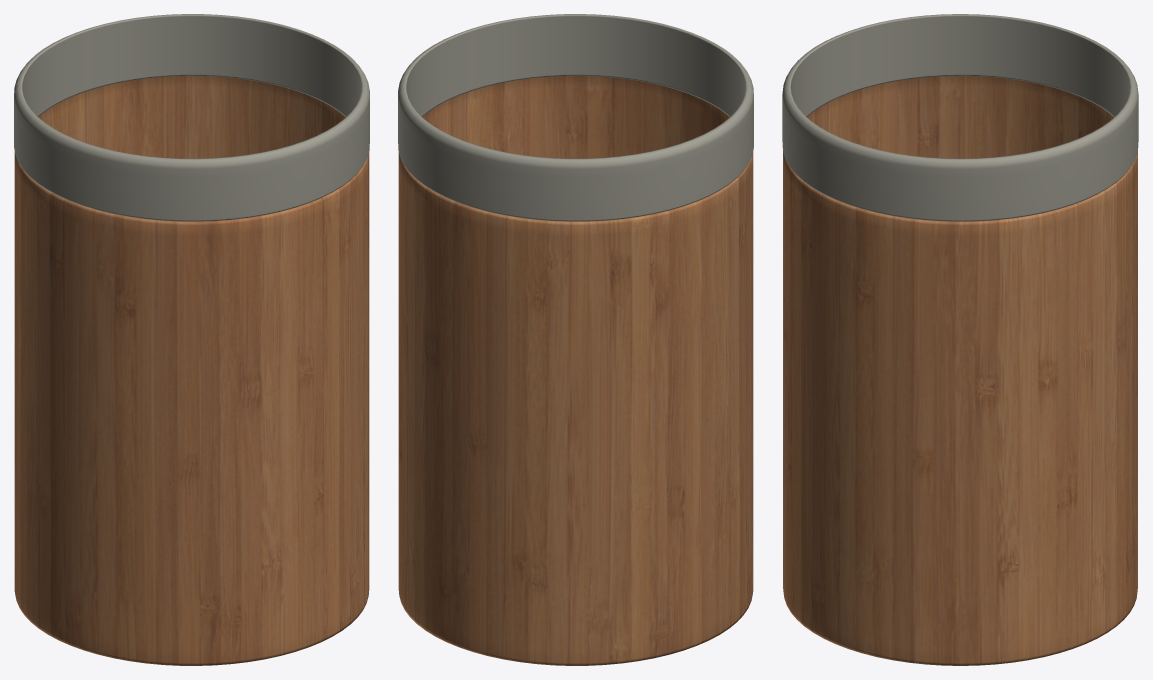
File: Holder.fbx
3 views of the same model, side by side, from view 1: azimuth 30°, elevation 25°; view 2: azimuth 150°, elevation 25°; view 3: azimuth 270°, elevation 25° (orthographic).
Visible parts, largest first — view 1: Circle.001; view 2: Circle.001; view 3: Circle.001.
Part boxes in pixels (x1,y1,x2,y2): Circle.001: (14, 14, 369, 665); Circle.001: (398, 14, 753, 665); Circle.001: (782, 14, 1138, 665).
Size of the model in its own units: 134 by 210 by 134.
